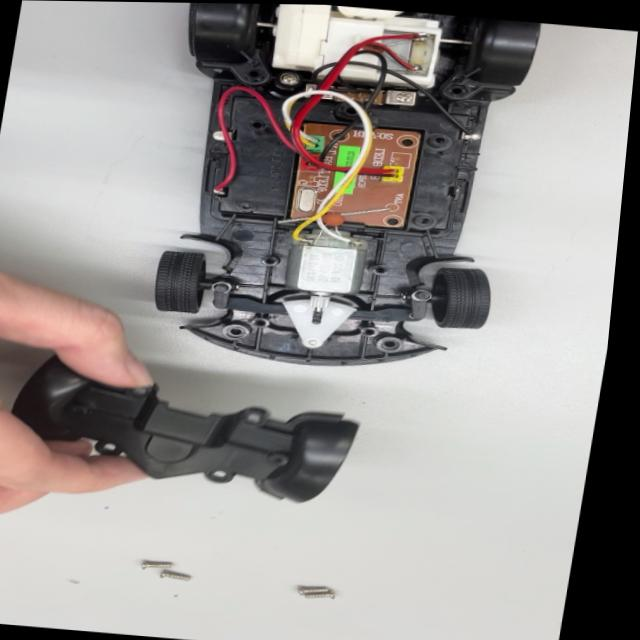Chassis: (165, 3, 527, 381)
motor: (287, 231, 371, 315)
motor_cover: (8, 357, 353, 514)
screw: (120, 552, 180, 576), (150, 568, 201, 589), (304, 583, 345, 607), (292, 577, 328, 596)
wheel: (416, 260, 518, 332), (135, 237, 217, 322)
